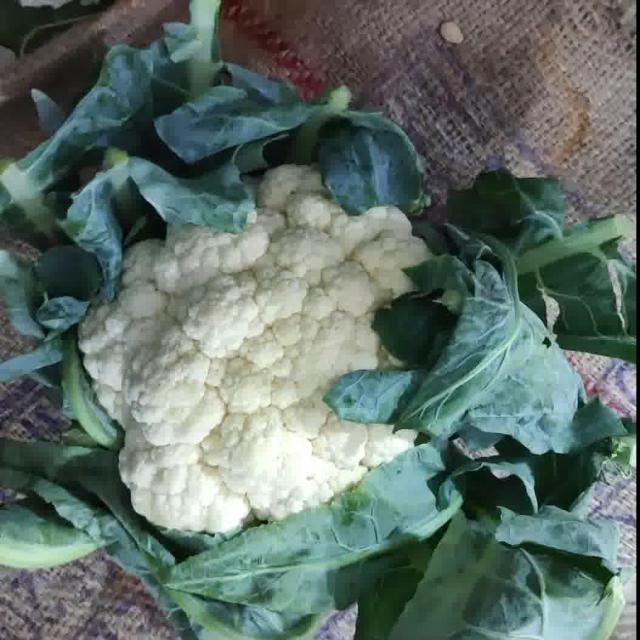Cauliflower: (77, 162, 446, 535)
